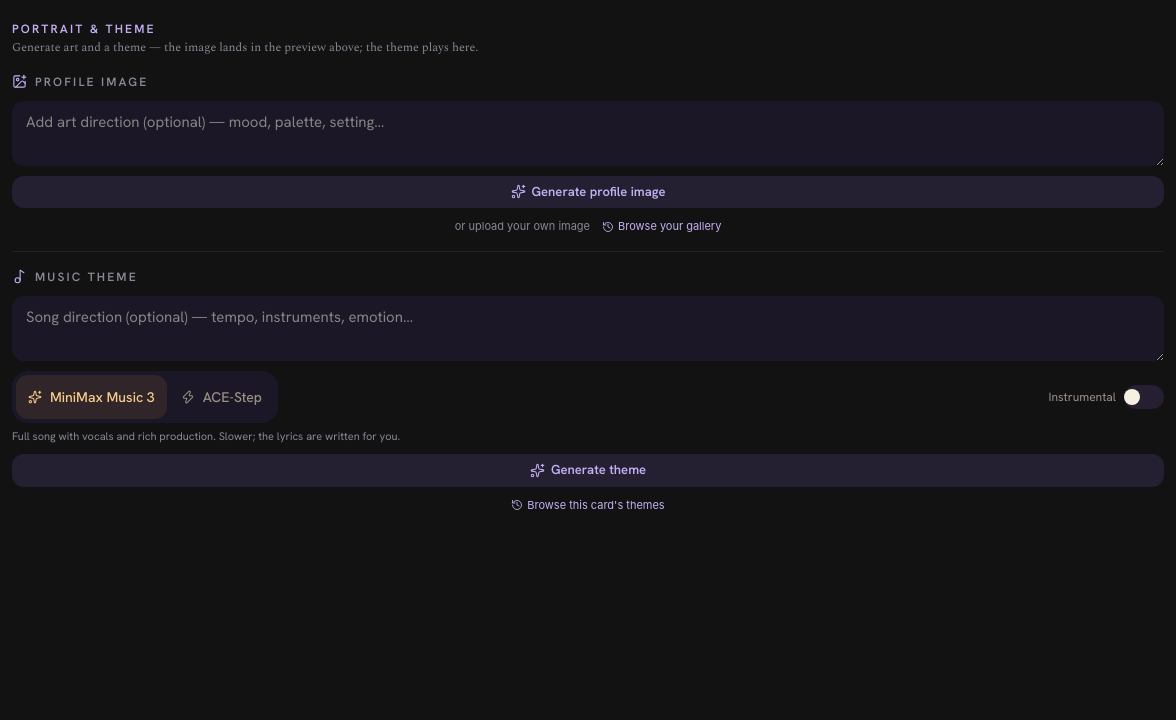
Scenario: MediaStudioSection theme generation › sends the default model and no instrumental flag
Step 1. Click the button "Generate theme" → (588,470), box [12,454,1164,487]
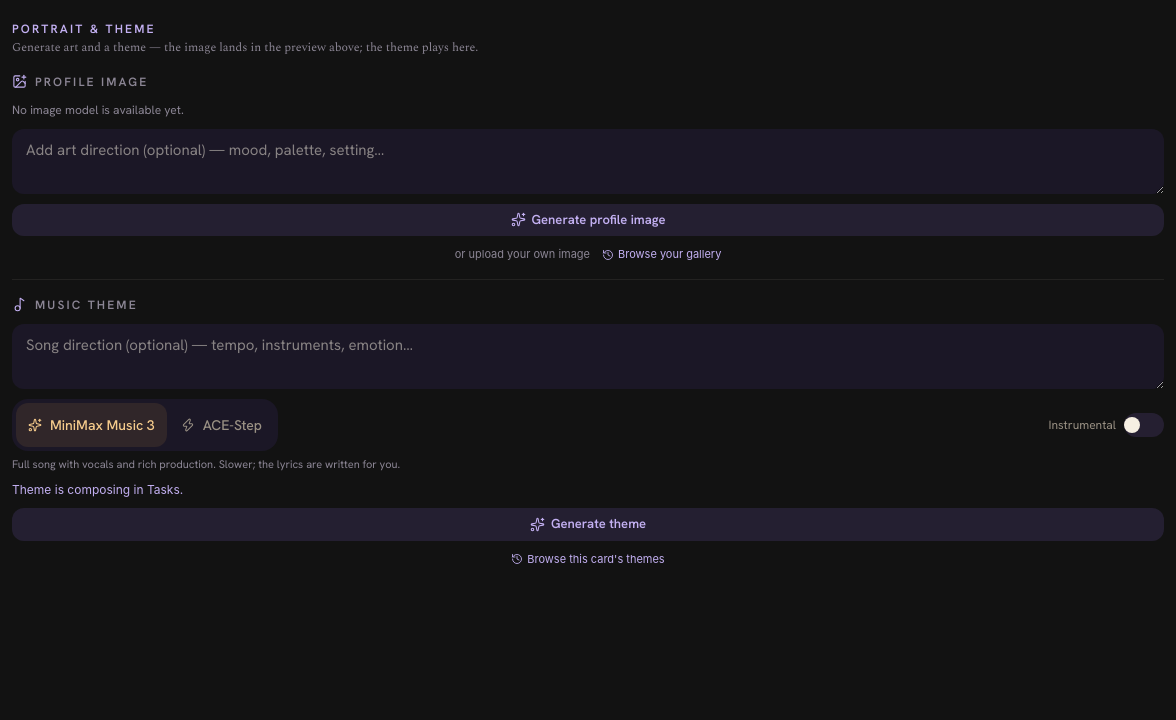
Now the text "Theme is composing in Tasks." is shown, box [12,482,183,497]
